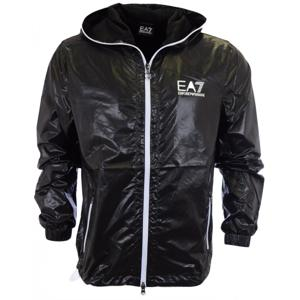C_jacket: (25, 1, 270, 297)
